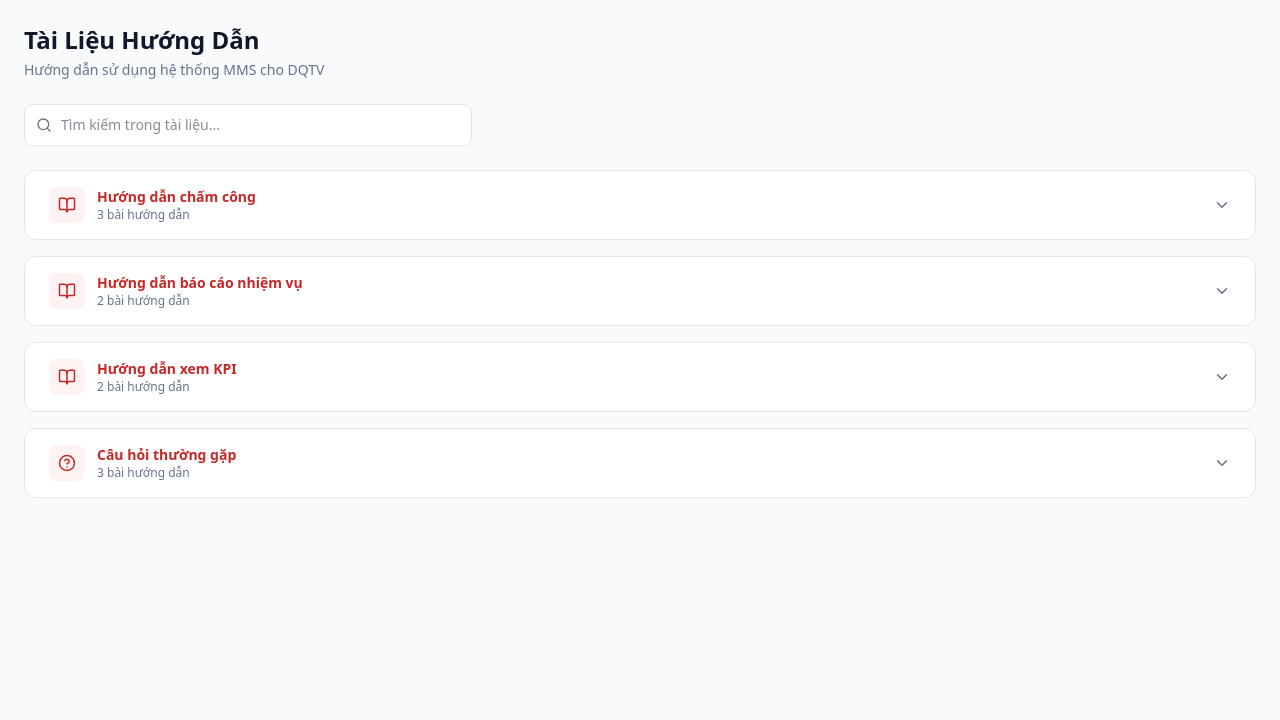
Test: DocumentationPage › expands section on click and shows articles
What coordinates should you click on to do the following:
click the button with test id "section-attendance"
I would click on:
 (67, 205)
Its box is [25, 171, 1255, 239].
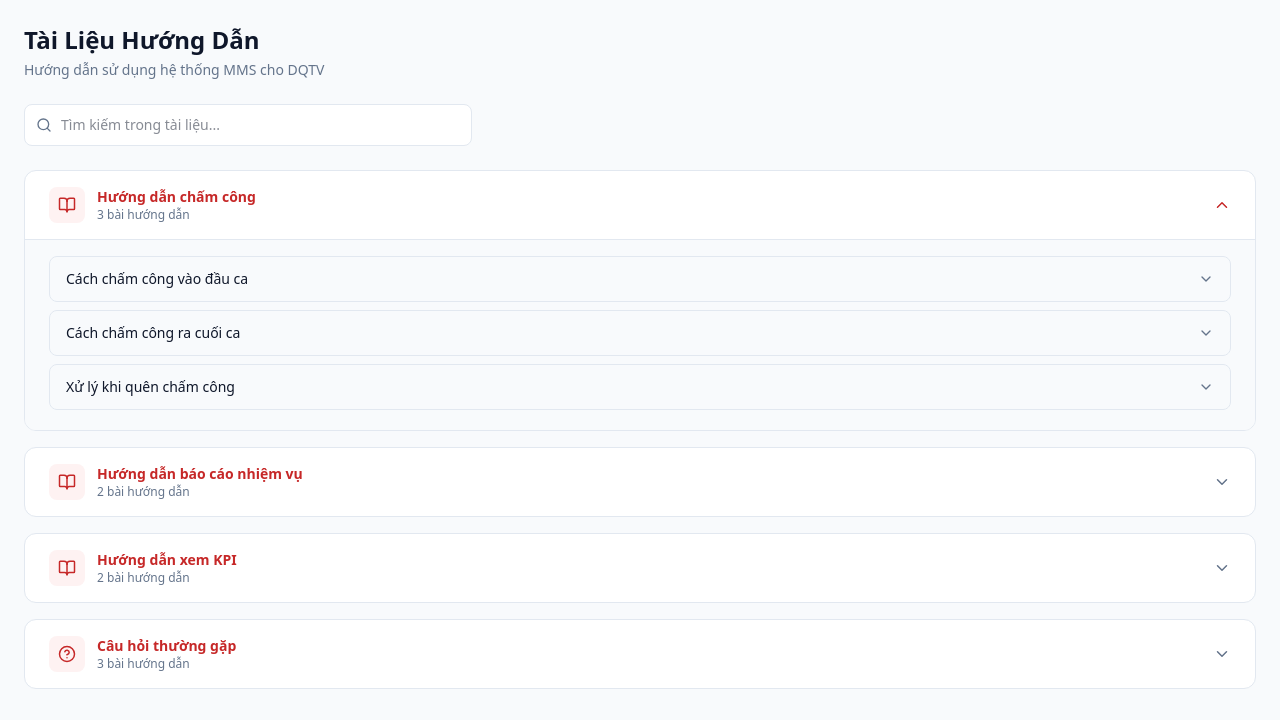
Expected: the text "Cách chấm công vào đầu ca" is shown, [66, 269, 248, 289]
